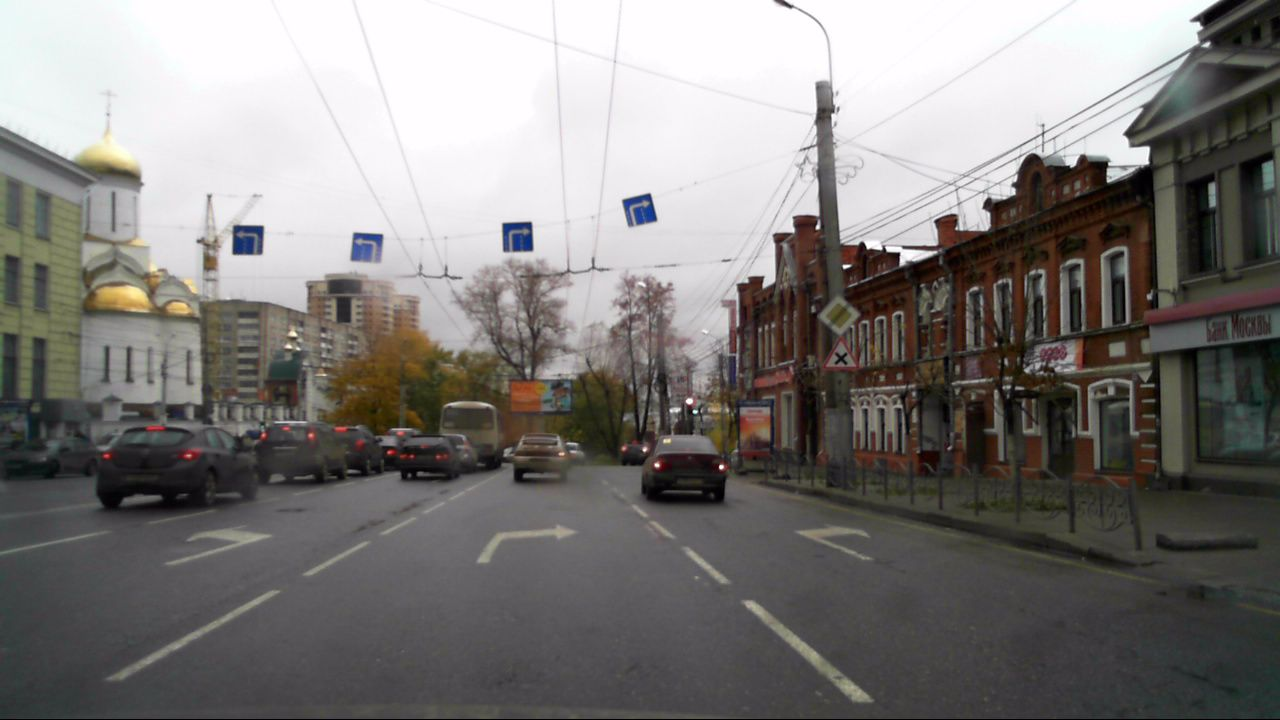main road: (816, 294, 860, 337)
